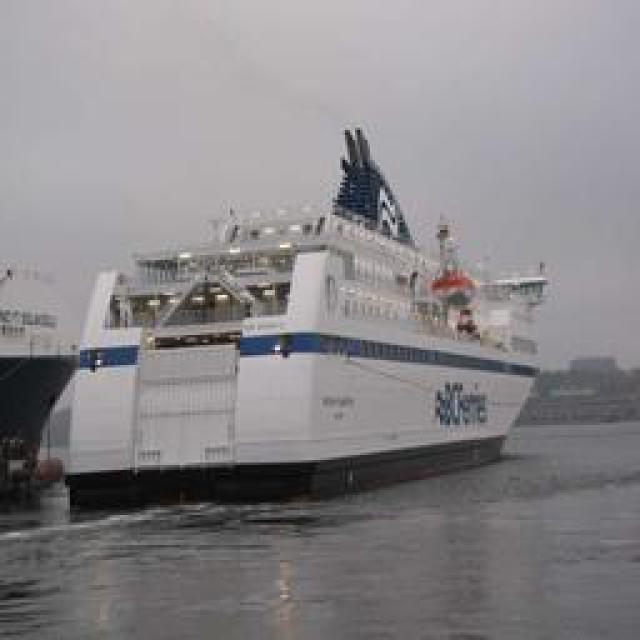Ship: (27, 135, 545, 503)
